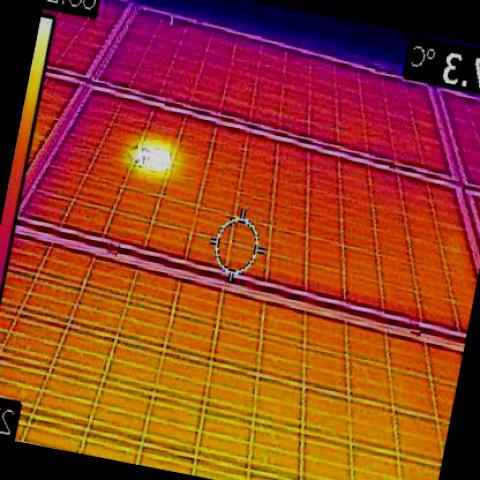fault: (138, 140, 170, 178)
